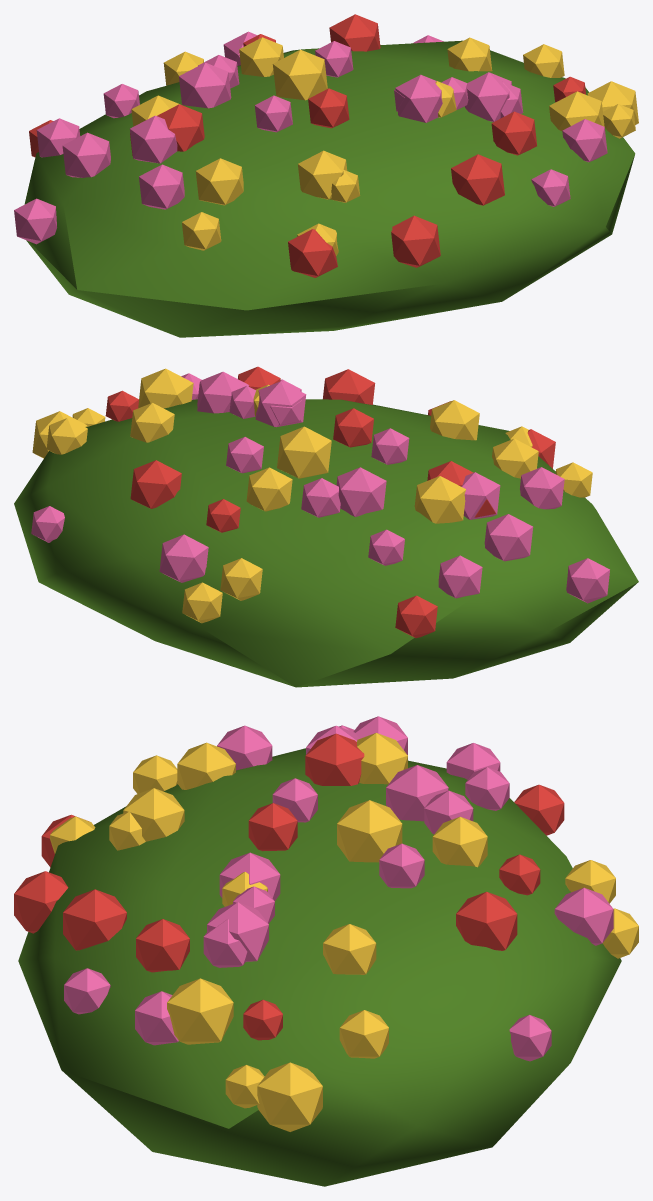
The model's file is flowers_b.fbx.
3 renders of one model, top to bottom at view 1: azimuth 30°, elevation 25°; view 2: azimuth 150°, elevation 25°; view 3: azimuth 270°, elevation 25°, orthographic. The views are drawn at different scales.
Visible parts, largest first — view 1: flowers_b; view 2: flowers_b; view 3: flowers_b.
Part boxes in pixels (<box>): flowers_b: <box>14,14,638,337</box>; flowers_b: <box>14,366,638,687</box>; flowers_b: <box>14,716,638,1186</box>.
Bounding box in the file's own units: 2.61 × 0.9638 × 1.91.
